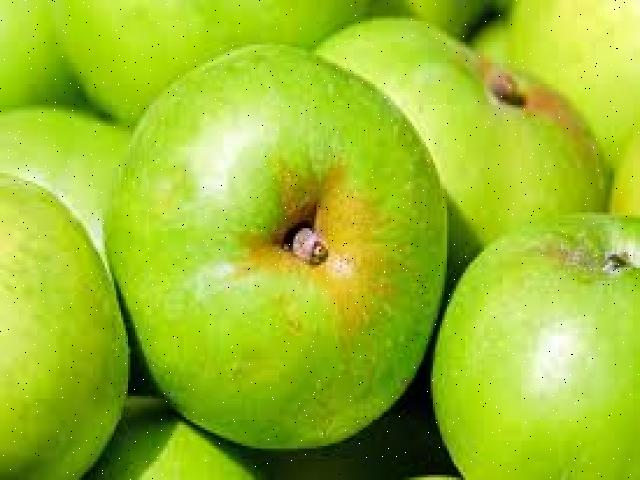apple: (104, 39, 444, 448), (249, 13, 610, 373), (428, 210, 638, 475), (0, 168, 128, 475)
